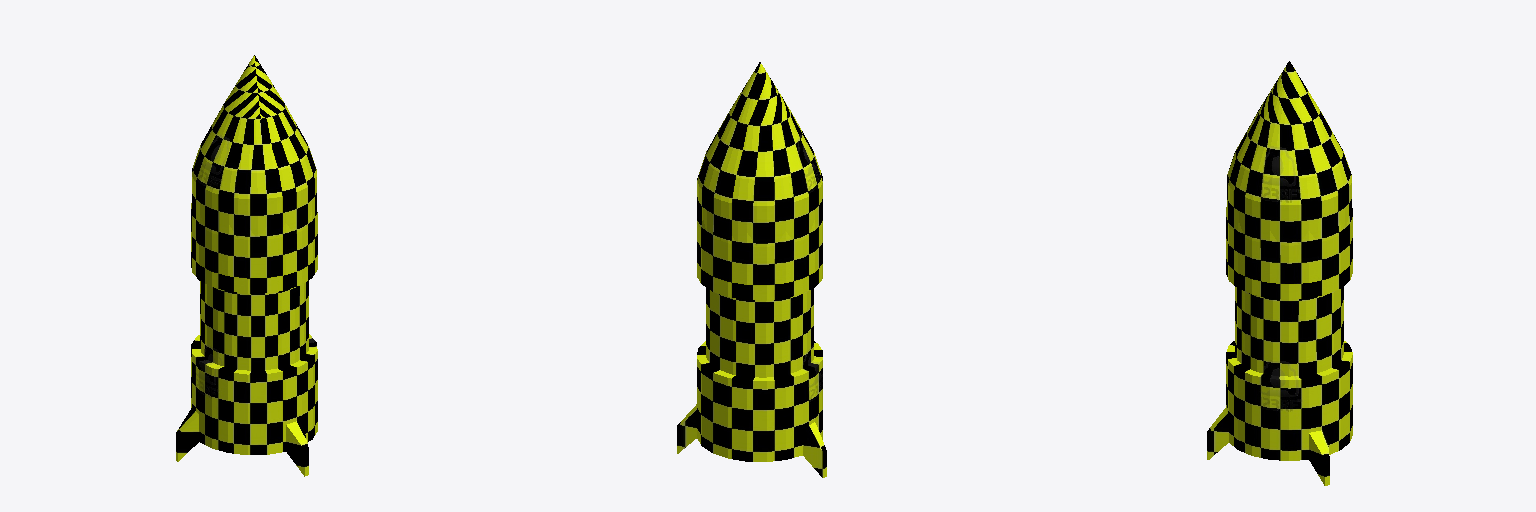
3 renders of one model, left to right at view 1: azimuth 30°, elevation 25°; view 2: azimuth 150°, elevation 25°; view 3: azimuth 270°, elevation 25°, orthographic.
Parts seen in each view (by area): view 1: pCylinder1; view 2: pCylinder1; view 3: pCylinder1.
Boxes of the visible parts, x1,y1,x2,y2 form: pCylinder1: [176, 55, 317, 476]; pCylinder1: [677, 62, 826, 477]; pCylinder1: [1207, 61, 1352, 485].
Size of the model in its own units: 14.65 by 40.29 by 13.56.
Materials: 1 (1 with a texture image).